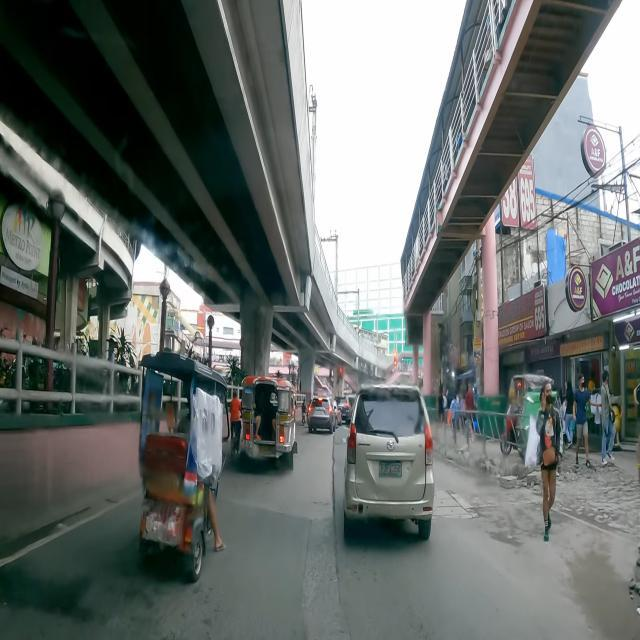bike: (230, 388, 242, 456)
car: (344, 384, 434, 540), (306, 396, 336, 433), (335, 396, 353, 424)
jeepney: (240, 376, 298, 468)
motorcycle: (301, 396, 307, 424)
tricycle: (138, 352, 228, 583), (501, 374, 561, 460)
